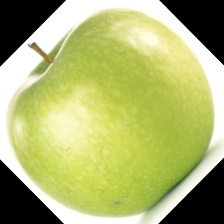apple: (25, 36, 178, 184)
